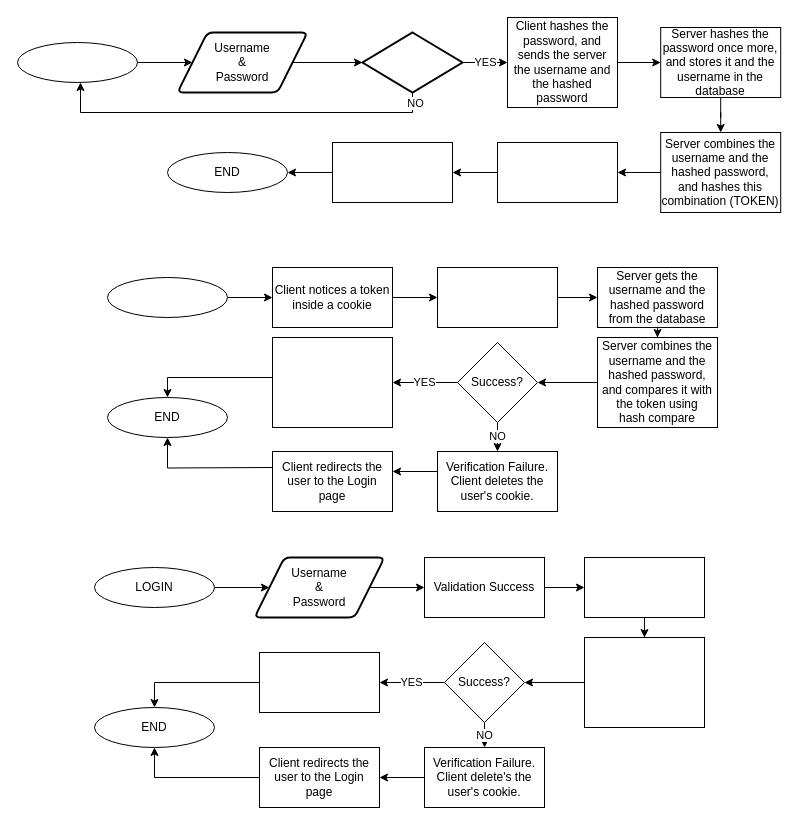
Image size: 799x825. Some labels were removed from this diagram. The box of each missing label's shape, as (x1, y1, x2, y2) in pixels:
Client sends the token to the server: (436, 266, 558, 328)
Client stores the token in a cookie: (332, 142, 452, 202)
REGISTER: (16, 42, 138, 82)
Server compares the: (584, 636, 704, 728)
Server gets the hashed password from the database using the username: (584, 556, 704, 618)
Server sends the token back: (496, 142, 618, 202)
TOKEN VERIFICATION: (106, 276, 228, 318)
Validation Success?: (361, 31, 463, 93)
Verification Successful. User keeps the cookie, and is directed to Boards page: (272, 336, 392, 428)
Verification Successful. User keeps the cookie.: (258, 652, 380, 712)
